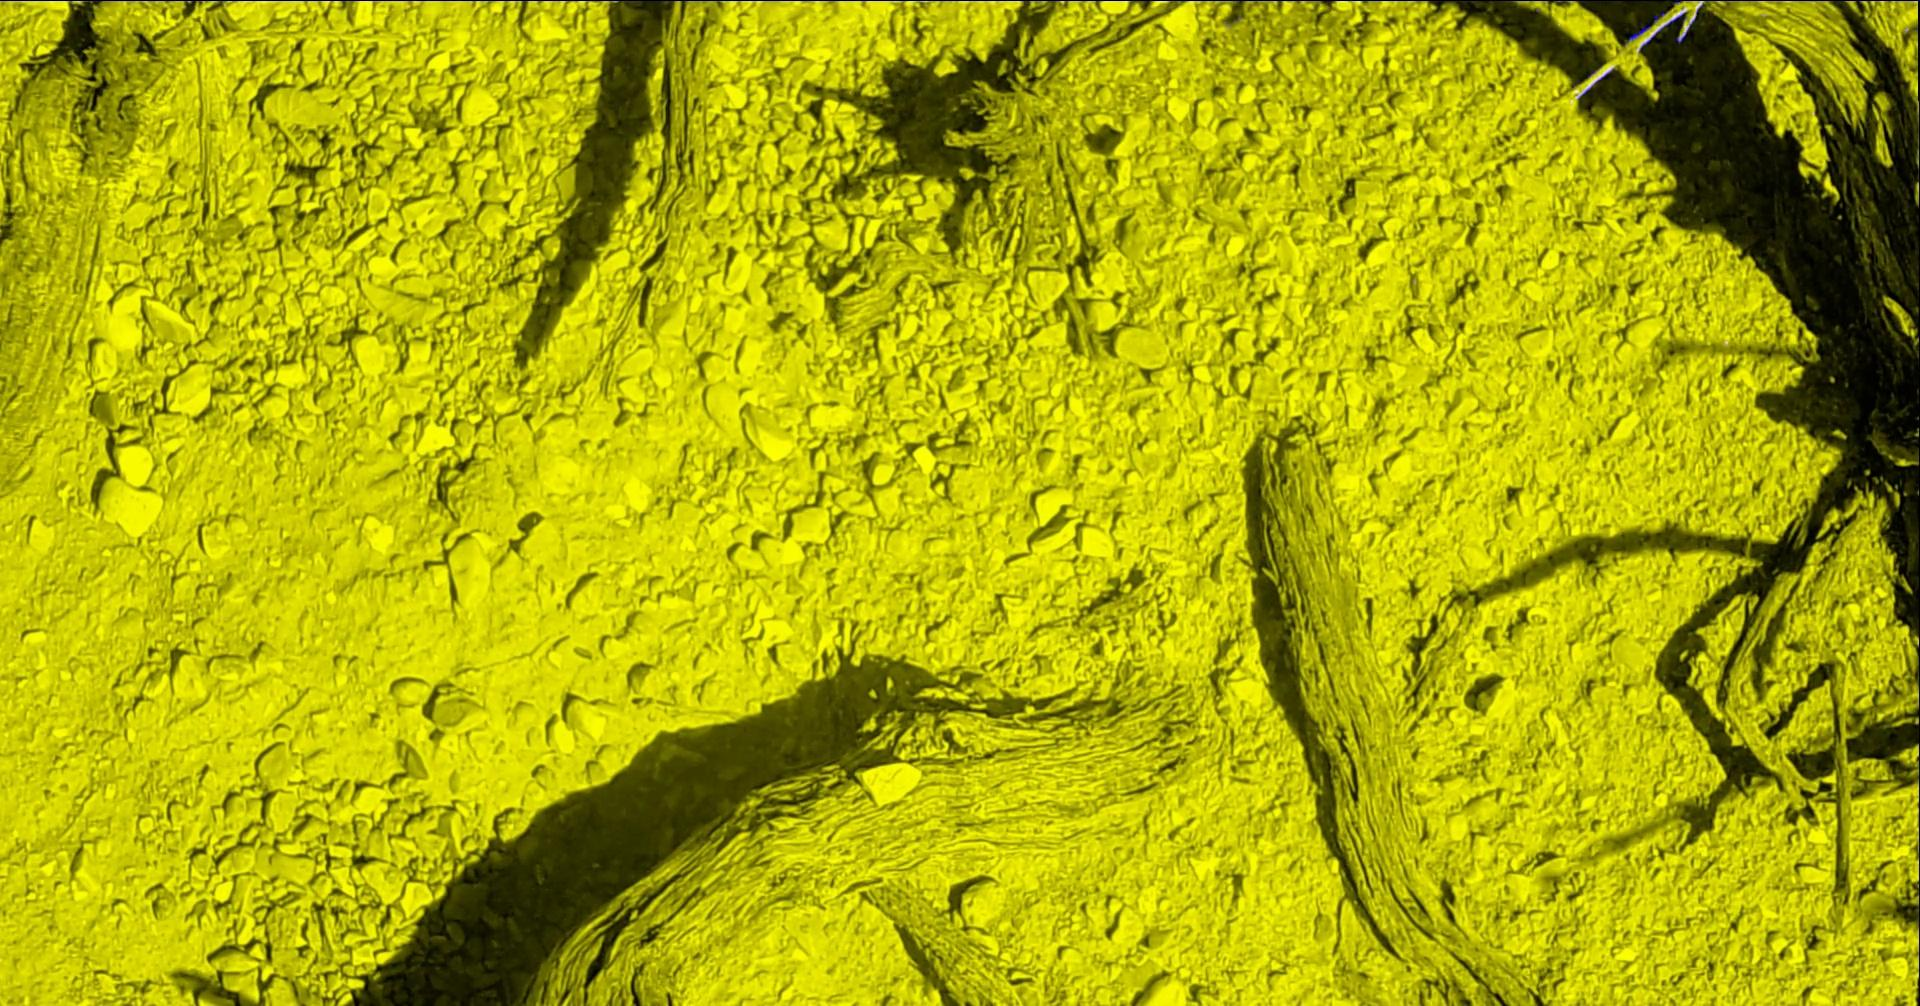ant: (1641, 11, 1688, 51), (1625, 25, 1652, 44)
